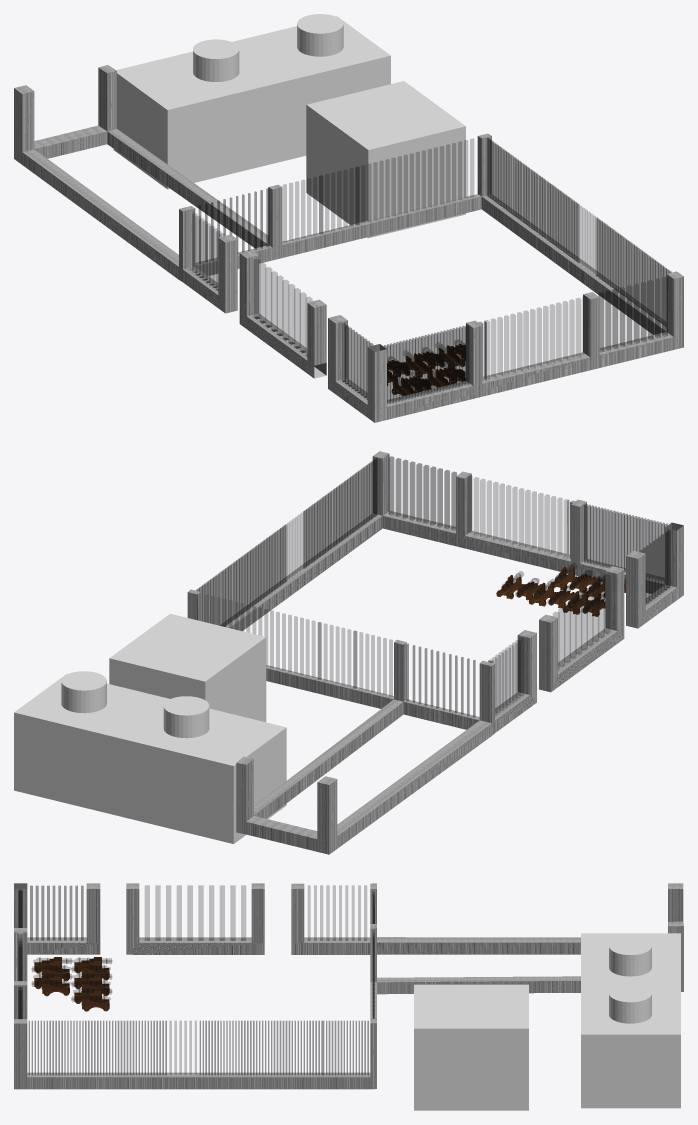
File: almacen.glb
3 views of the same model, one above another, from view 1: azimuth 30°, elevation 25°; view 2: azimuth 150°, elevation 25°; view 3: azimuth 270°, elevation 25° (orthographic). The views are drawn at different scales.
Parts seen in each view (by area): view 1: Cube.015, Cube.018, Cube.017; view 2: Cube.015, Cube.018, Cube.017; view 3: Cube.015, Cube.018, Cube.017, cañon almacen1.002, cañon almacen1.
Part boxes in pixels (left/top/right/bottom): Cube.015: left=14, top=65, right=683, bottom=422; Cube.018: left=113, top=14, right=390, bottom=189; Cube.017: left=306, top=81, right=465, bottom=238; Cube.015: left=187, top=451, right=683, bottom=854; Cube.018: left=14, top=671, right=286, bottom=843; Cube.017: left=109, top=613, right=266, bottom=722; Cube.015: left=14, top=883, right=683, bottom=1089; Cube.018: left=581, top=933, right=680, bottom=1108; Cube.017: left=414, top=984, right=528, bottom=1110; cañon almacen1.002: left=81, top=994, right=109, bottom=1011; cañon almacen1: left=41, top=979, right=69, bottom=996.
Bounding box in the file's own units: 52.29 × 17.43 × 102.
Materials: 3 (1 with a texture image).
